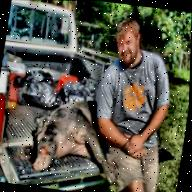boar: (15, 84, 110, 180)
